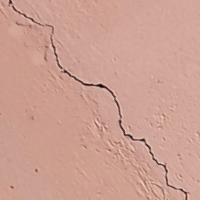crack: (9, 0, 190, 199)
